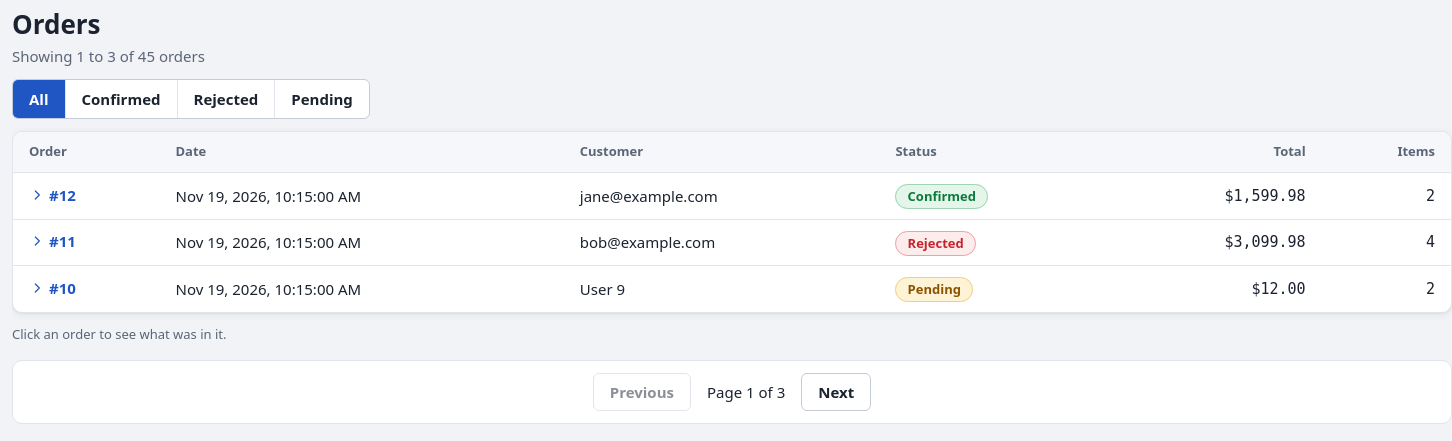
Test case: Admin orders page › pages › asks for the next page and the previous page
The width and height of the screenshot is (1452, 441).
Expected: the text "jane@example.com" is shown, [564,173,879,219]
Expected: the text "Page 1 of 3" is shown, [707,381,785,404]
Step 1. Click the button "Next" → (836, 392), box [801,373,871,411]
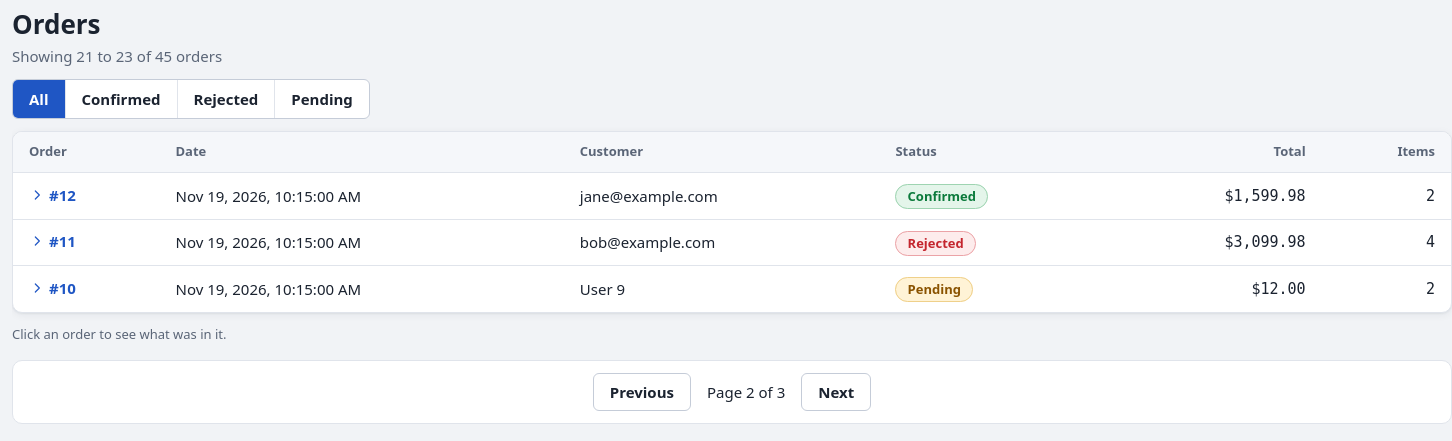
Result: the text "Page 2 of 3" is shown at [707,381,785,404]
Result: the text "Showing 21 to 23 of 45 orders" is shown at [12,46,222,66]
Step 2. Click the button "Previous" → (642, 392), box [593,373,691,411]
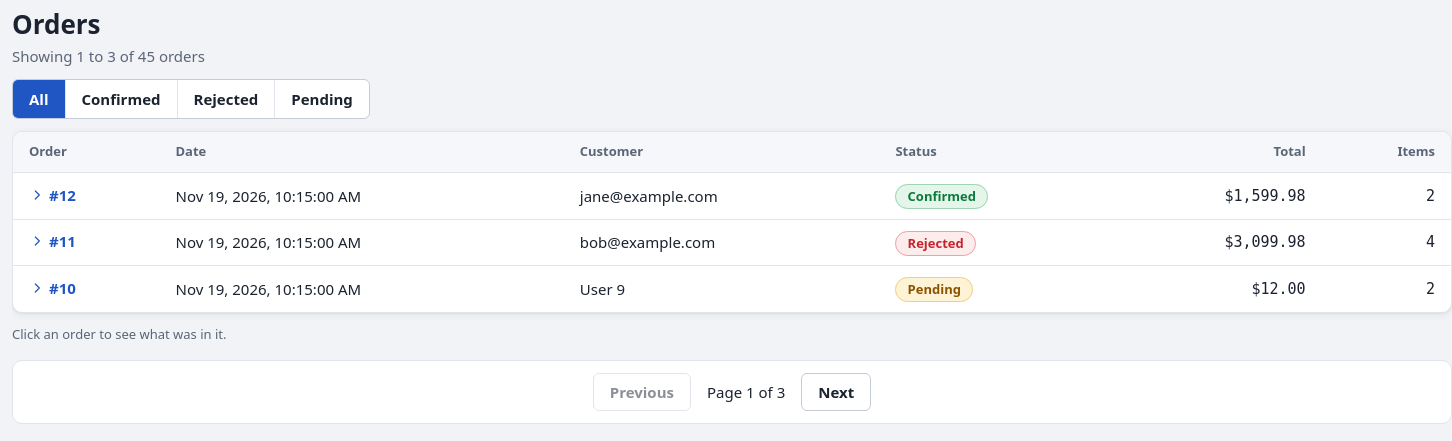
Result: the text "Page 1 of 3" is shown at [707,381,785,404]
